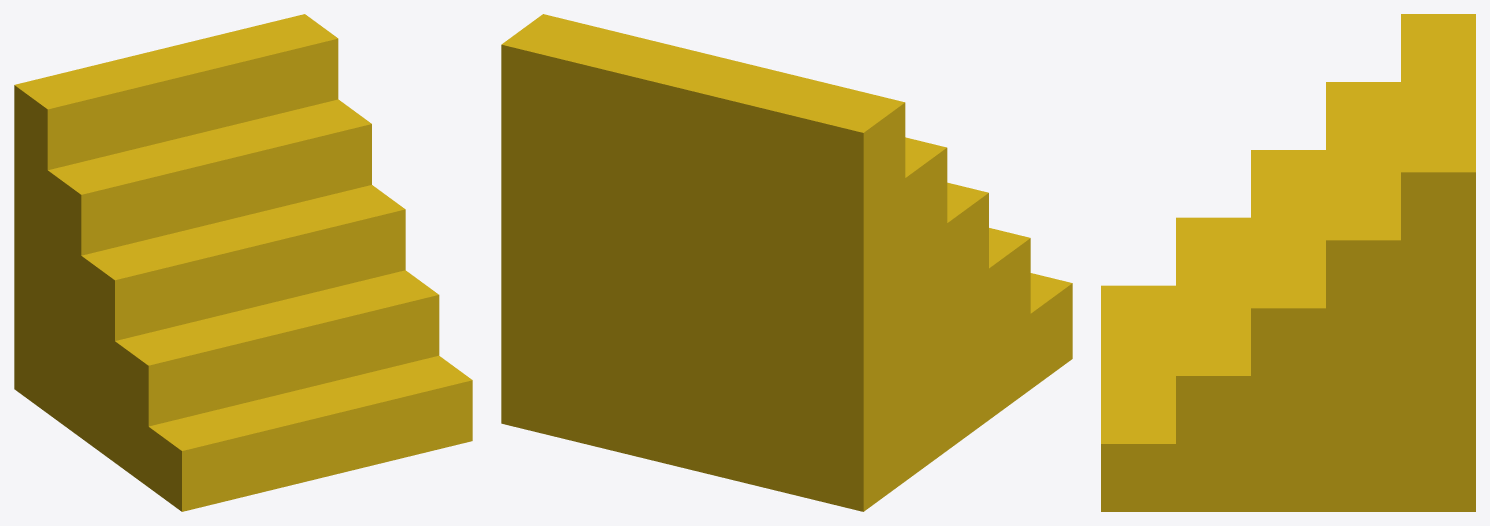
Rendered from path_yellow_stair_1.obj.
The picture shows the model from 3 angles, left to right: view 1: azimuth 30°, elevation 25°; view 2: azimuth 150°, elevation 25°; view 3: azimuth 270°, elevation 25°; orthographic projection. The views are drawn at different scales.
Size of the model in its own units: 1 by 1 by 1.
1 material, 1 textured.
